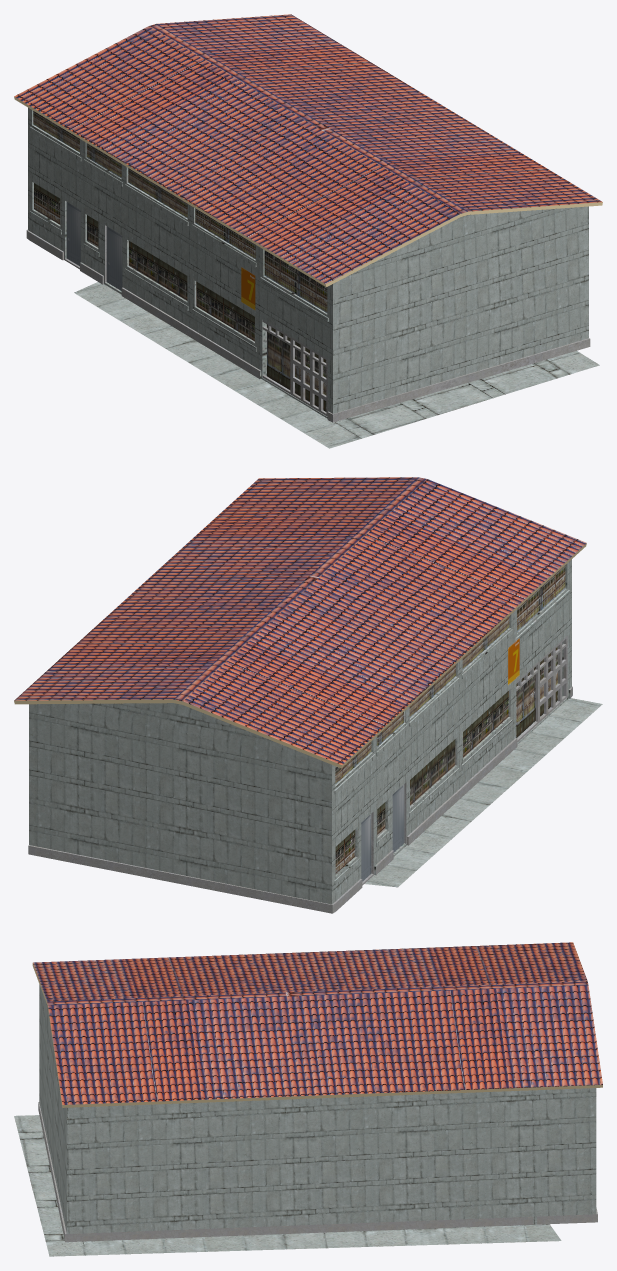
File: bloque_7_corregido.fbx
The picture shows the model from 3 angles, top to bottom: view 1: azimuth 30°, elevation 25°; view 2: azimuth 150°, elevation 25°; view 3: azimuth 270°, elevation 25°; orthographic projection. The views are drawn at different scales.
Parts seen in each view (by area): view 1: polySurface2149, polySurface2148, polySurface2343, polySurface2147; view 2: polySurface2149, polySurface2148, polySurface2343, polySurface2147; view 3: polySurface2149, polySurface2148, polySurface2343.
Boxes of the visible parts, x1,y1,x2,y2 form: polySurface2149: (14,14,602,287); polySurface2148: (26,108,590,422); polySurface2343: (74,282,599,448); polySurface2147: (262,320,327,416); polySurface2149: (14,477,586,768); polySurface2148: (28,559,572,913); polySurface2343: (365,698,602,887); polySurface2147: (516,635,567,742); polySurface2149: (32,942,602,1107); polySurface2148: (38,984,597,1242); polySurface2343: (14,1115,561,1256).
Size of the model in its own units: 1.57 by 0.8398 by 2.4.
